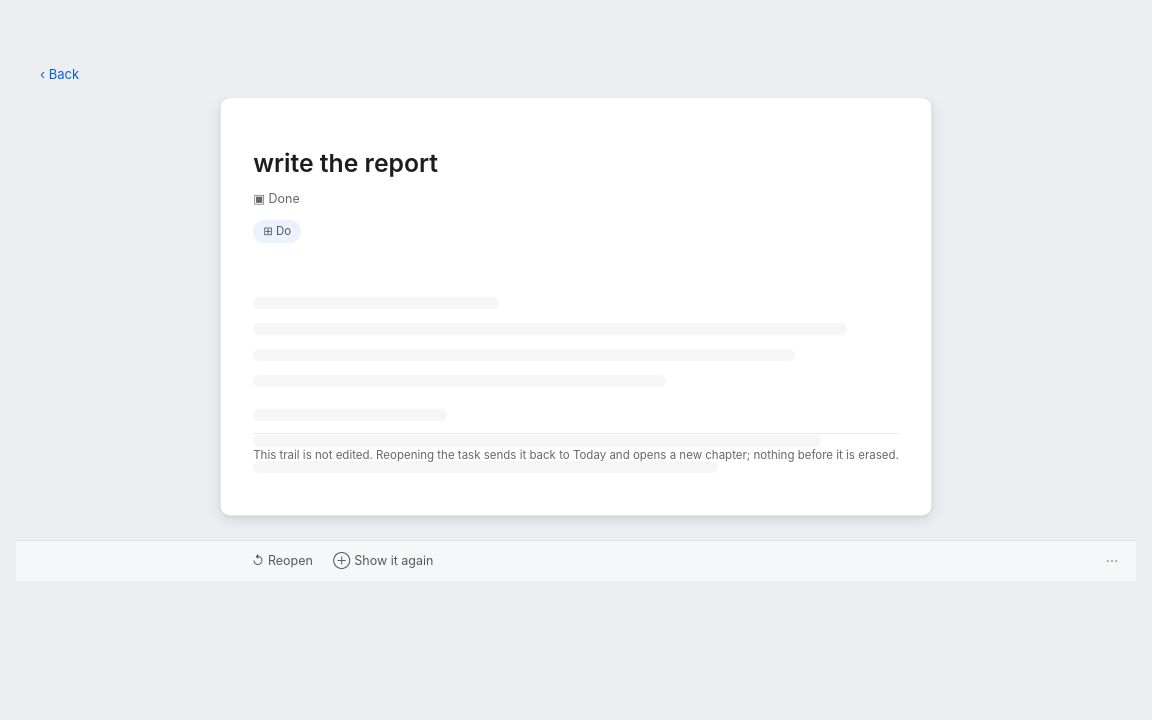
Test case: erasing what is already archived › is offered on a completed task that was put away
What coordinates should you click on to do the following:
click the button named "more"
I would click on:
 (1112, 561)
Its box is left=1100, top=549, right=1124, bottom=573.
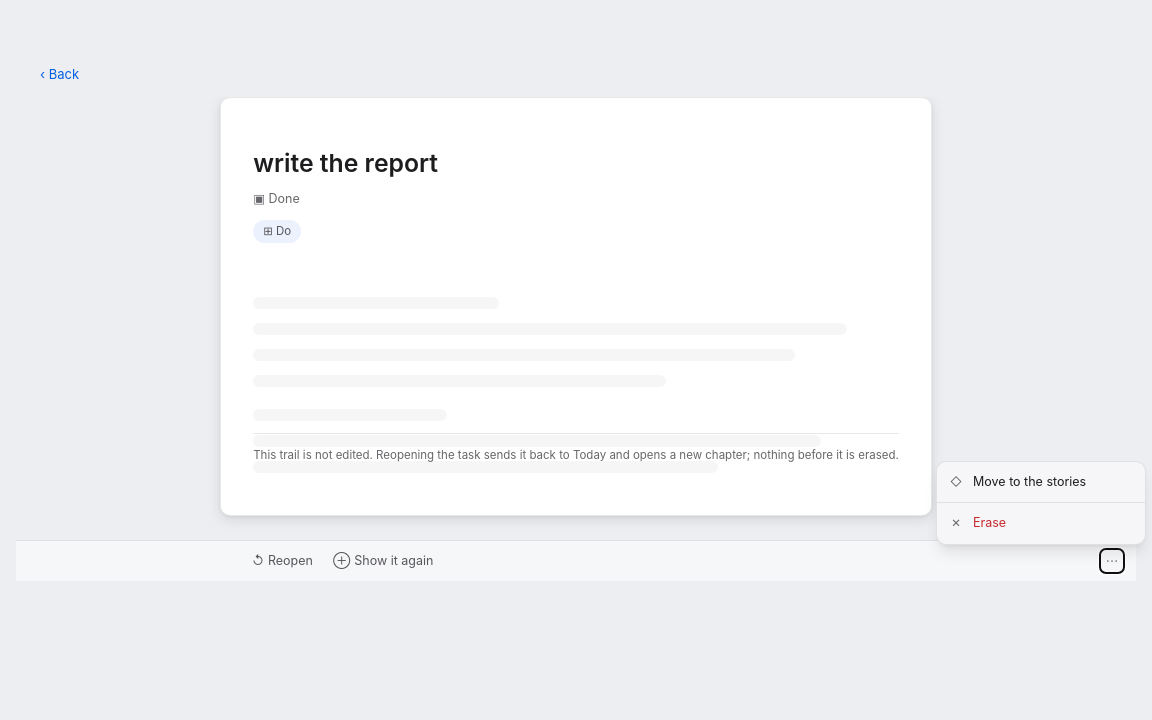
Now the menu item "✕ Erase" is shown, box left=937, top=507, right=1145, bottom=540
